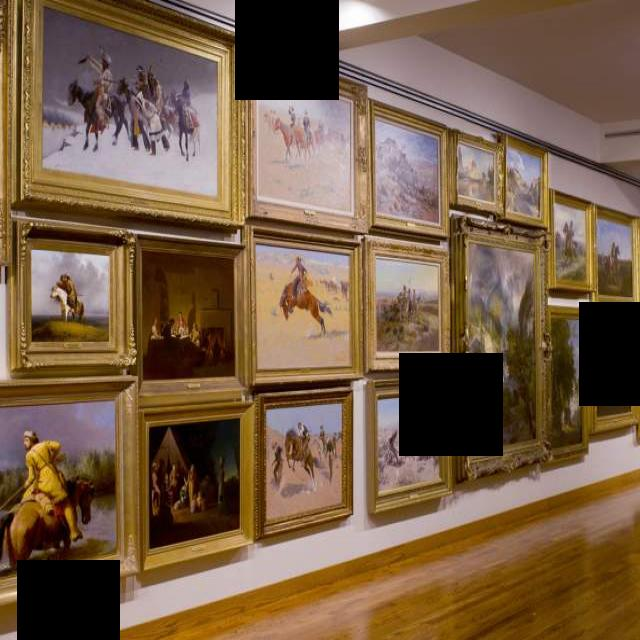Tablo: (40, 5, 218, 196), (0, 399, 118, 582), (256, 61, 355, 218), (468, 241, 537, 453), (146, 414, 243, 555), (140, 248, 236, 381), (255, 243, 351, 370), (266, 402, 343, 521), (374, 114, 443, 228), (30, 249, 110, 343), (374, 253, 440, 352), (377, 393, 441, 492), (548, 317, 586, 450), (595, 330, 632, 419), (596, 217, 633, 297), (505, 141, 541, 220), (554, 201, 587, 283), (457, 140, 495, 203)
